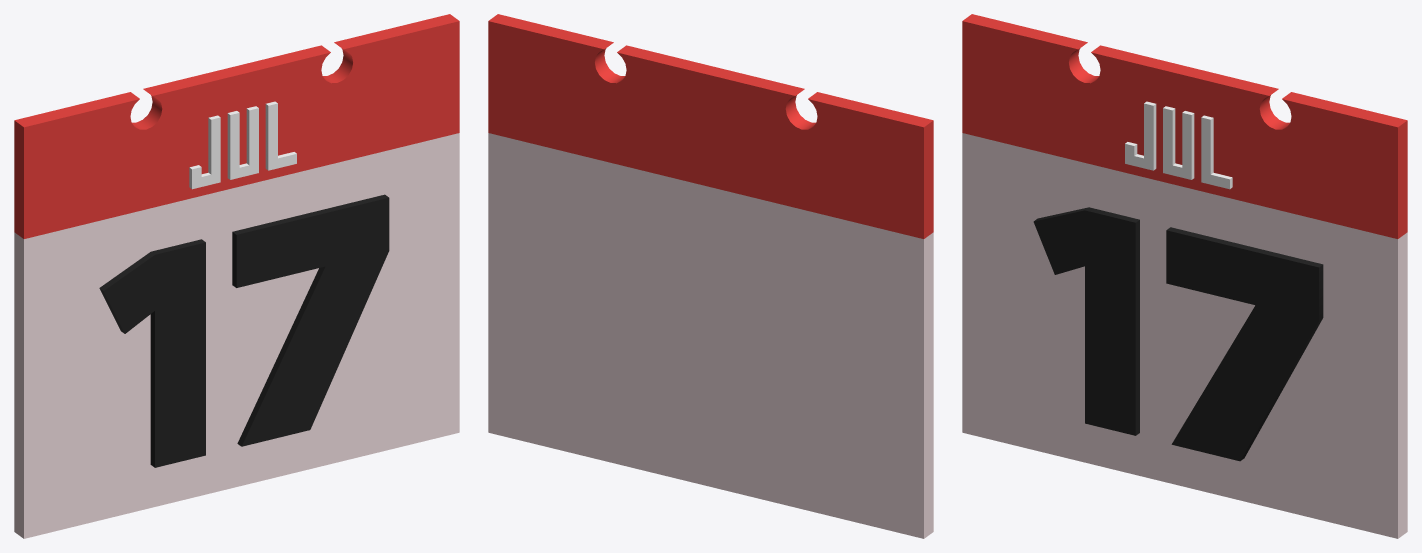
File: calendar.glb
3 renders of one model, left to right at view 1: azimuth 30°, elevation 25°; view 2: azimuth 150°, elevation 25°; view 3: azimuth 330°, elevation 25°, orthographic.
Visible parts, largest first — view 1: Circle.2565; view 2: Circle.2565; view 3: Circle.2565.
Part boxes in pixels (bbox=[...]): Circle.2565: bbox=[14, 14, 459, 538]; Circle.2565: bbox=[488, 14, 933, 538]; Circle.2565: bbox=[962, 14, 1407, 538].
Size of the model in its own units: 2.33 by 2.1 by 0.1289.
Materials: 1 (1 with a texture image).
